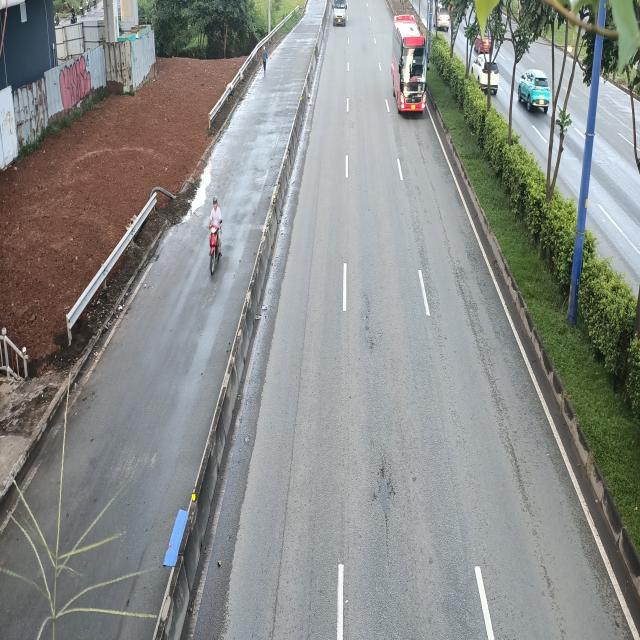coach: (393, 15, 430, 114)
